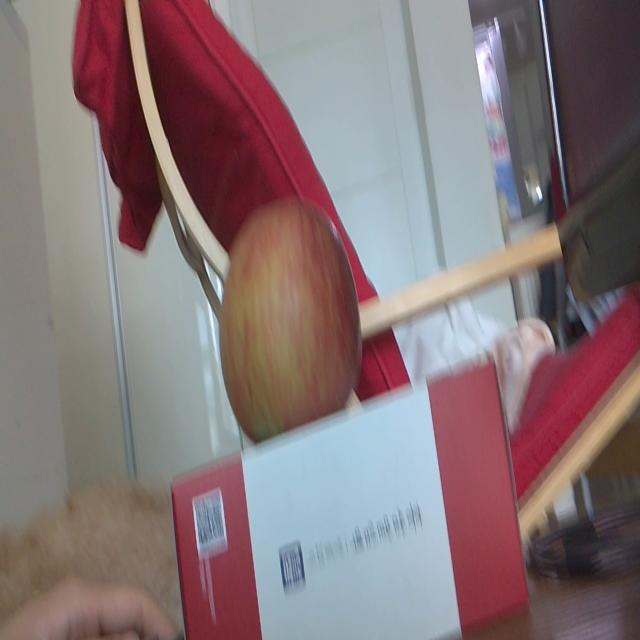apple: (221, 202, 360, 428)
